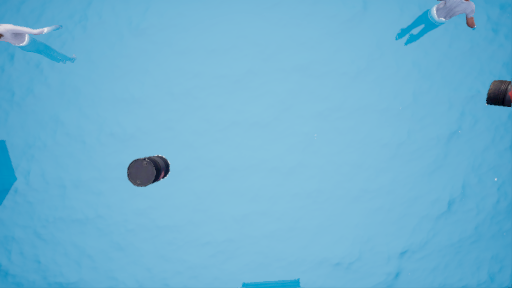person: (3, 19, 71, 66)
